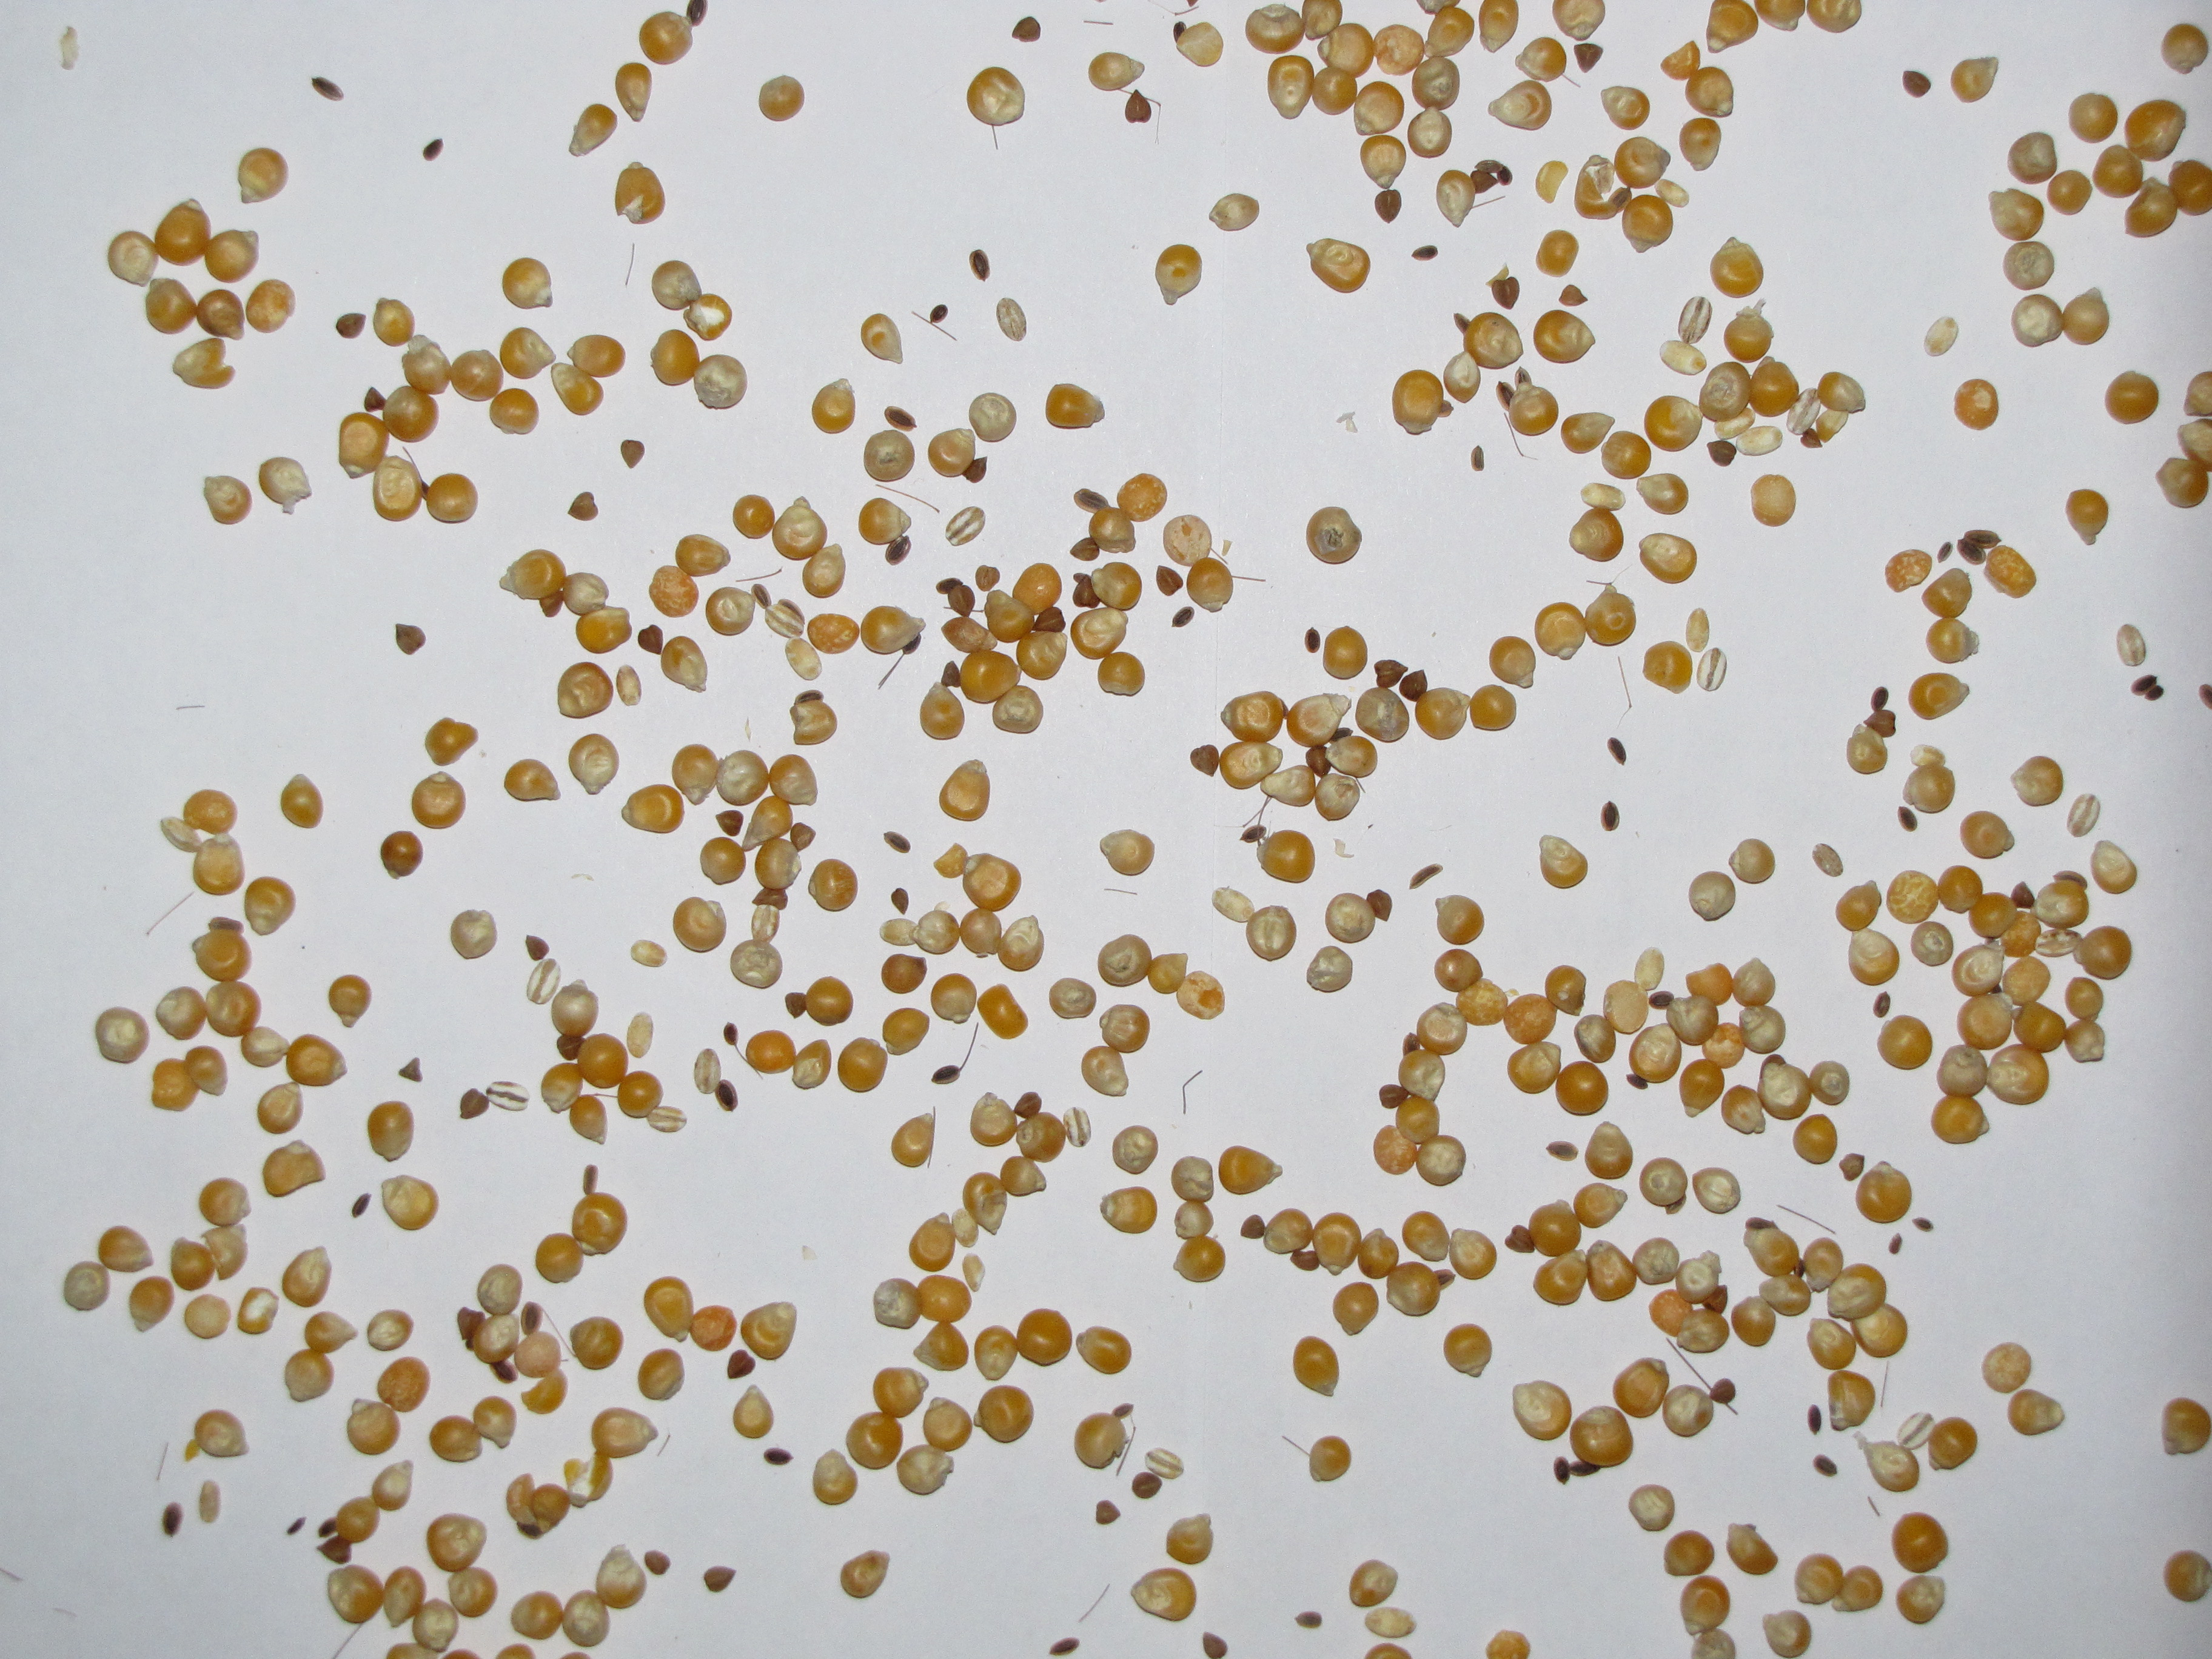mais: (282, 1246, 331, 1309), (2104, 371, 2160, 425), (500, 328, 557, 380), (1585, 1121, 1634, 1180), (932, 1023, 979, 1084), (1155, 244, 1202, 305), (1909, 673, 1970, 720), (1292, 1337, 1339, 1398), (977, 983, 1028, 1039), (838, 1037, 888, 1093), (1639, 1157, 1688, 1215), (2006, 1389, 2066, 1436), (1642, 640, 1693, 694), (246, 279, 296, 333), (864, 429, 914, 483), (789, 690, 838, 746), (1959, 810, 2015, 859), (1444, 1323, 1493, 1378), (1076, 1326, 1132, 1375), (127, 1276, 174, 1333), (920, 681, 965, 741), (2003, 240, 2055, 291), (808, 859, 859, 911), (2006, 132, 2057, 185), (502, 258, 554, 308), (425, 718, 479, 767), (1540, 835, 1588, 889), (1360, 134, 1407, 190), (1099, 829, 1155, 877), (813, 1448, 859, 1506), (840, 1549, 890, 1600), (2067, 92, 2118, 143), (1165, 1513, 1214, 1565), (1332, 1283, 1379, 1337), (503, 758, 561, 802), (1688, 871, 1737, 922), (968, 392, 1017, 443), (1601, 430, 1651, 479), (1435, 894, 1484, 945), (1836, 880, 1883, 932), (930, 972, 977, 1025), (1489, 636, 1536, 688), (1750, 474, 1797, 526), (637, 1349, 685, 1401), (1322, 626, 1367, 680), (812, 378, 855, 434), (2066, 488, 2107, 545), (204, 476, 253, 525), (1174, 21, 1224, 68), (1111, 1124, 1158, 1175), (449, 910, 496, 960), (1954, 378, 2000, 430), (1561, 411, 1615, 455), (1089, 52, 1144, 94), (1951, 56, 2000, 103), (1306, 945, 1353, 993), (1629, 1483, 1676, 1532), (883, 1007, 930, 1056), (1792, 1114, 1838, 1164), (1635, 472, 1689, 514), (2047, 169, 2094, 216), (1693, 1168, 1740, 1215), (1601, 85, 1649, 131), (860, 314, 904, 364), (1679, 118, 1721, 171), (615, 63, 651, 122), (733, 1385, 773, 1439), (806, 613, 860, 653), (1534, 230, 1580, 277), (1728, 838, 1775, 884), (759, 75, 805, 122), (1885, 549, 1933, 592), (380, 831, 423, 880), (1049, 978, 1097, 1019), (368, 1309, 413, 1352), (1911, 922, 1954, 967), (1980, 1019, 2022, 1066), (1209, 193, 1259, 232), (881, 953, 927, 995), (876, 484, 941, 512), (1778, 1204, 1836, 1234), (1534, 160, 1569, 204), (996, 298, 1026, 342), (1696, 648, 1726, 692), (1686, 608, 1710, 652), (631, 939, 667, 967), (617, 664, 641, 706), (395, 624, 427, 655), (1491, 277, 1521, 310), (568, 491, 599, 521), (1374, 190, 1402, 223), (1409, 863, 1444, 889), (1125, 89, 1151, 124), (1573, 44, 1602, 73), (726, 1349, 756, 1378), (460, 1089, 489, 1119), (1157, 565, 1184, 596), (1183, 1070, 1202, 1115), (2130, 674, 2163, 701), (1902, 70, 1932, 98), (1707, 439, 1737, 467), (1132, 1471, 1162, 1499), (885, 406, 916, 432), (637, 624, 664, 655), (1012, 16, 1042, 42), (336, 314, 366, 340), (1839, 1154, 1865, 1182), (716, 810, 744, 836), (620, 439, 644, 469), (580, 1079, 620, 1096), (1545, 1140, 1578, 1161), (975, 565, 1000, 592), (1559, 284, 1588, 307), (524, 936, 549, 962), (1096, 1499, 1120, 1525), (737, 568, 782, 582), (883, 831, 911, 854), (399, 1058, 423, 1082), (1601, 802, 1620, 831), (1813, 1455, 1838, 1478), (1608, 737, 1627, 765), (890, 887, 909, 915), (1172, 606, 1195, 627), (1872, 992, 1890, 1018), (1296, 1612, 1322, 1629), (1411, 246, 1439, 261), (1808, 1405, 1822, 1436), (1630, 185, 1660, 199), (1305, 627, 1320, 653), (1470, 446, 1484, 471), (2003, 955, 2020, 974), (968, 612, 988, 629), (1937, 542, 1952, 563), (287, 1518, 305, 1535), (1867, 1497, 1879, 1516), (1221, 540, 1231, 556), (1817, 404, 1827, 418), (1083, 21, 1113, 24), (1313, 774, 1320, 786), (1801, 1272, 1808, 1283), (2017, 908, 2031, 913), (1421, 54, 1428, 63), (1449, 964, 1453, 971)
